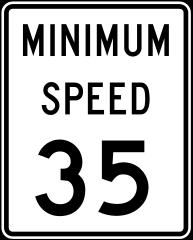Speed Limit -35-: (20, 14, 175, 226)
